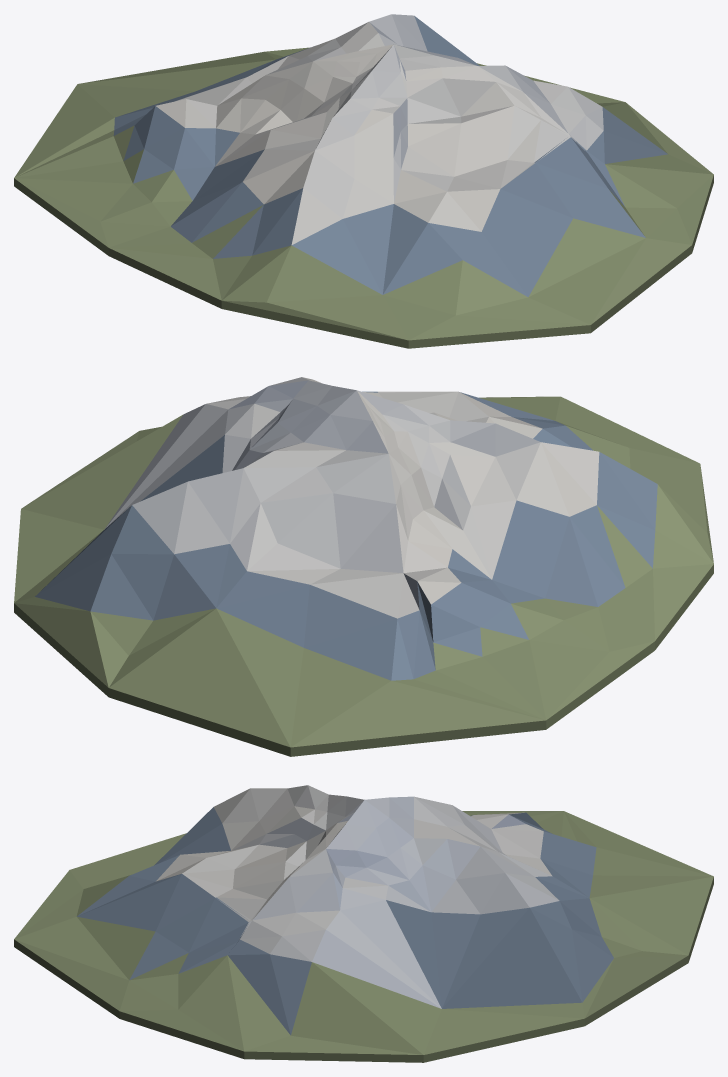
The model's file is massif_east_spur.glb.
3 views of the same model, one above another, from view 1: azimuth 30°, elevation 25°; view 2: azimuth 150°, elevation 25°; view 3: azimuth 270°, elevation 25° (orthographic). The views are drawn at different scales.
Visible parts, largest first — view 1: massif_east_spur; view 2: massif_east_spur; view 3: massif_east_spur.
Part boxes in pixels (box(x1,y1,x2,y2)): massif_east_spur: box(14, 14, 713, 348); massif_east_spur: box(14, 377, 713, 756); massif_east_spur: box(14, 785, 713, 1062).
Bounding box in the file's own units: 675 × 184 × 817.
